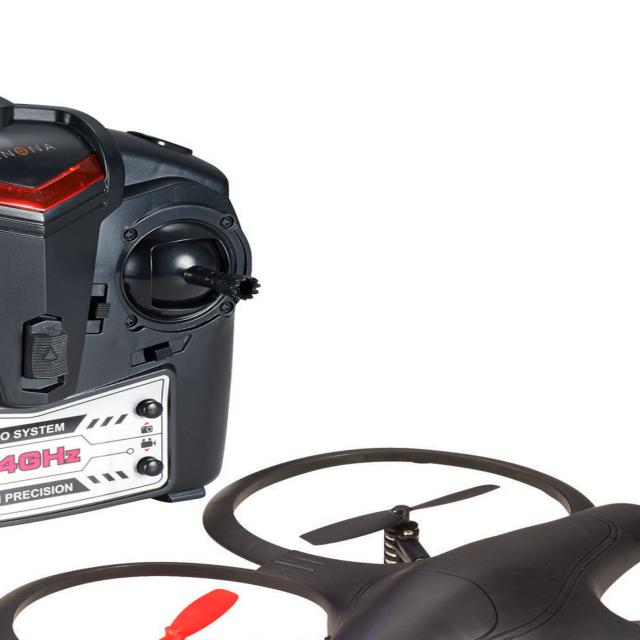drone: (0, 411, 640, 640)
